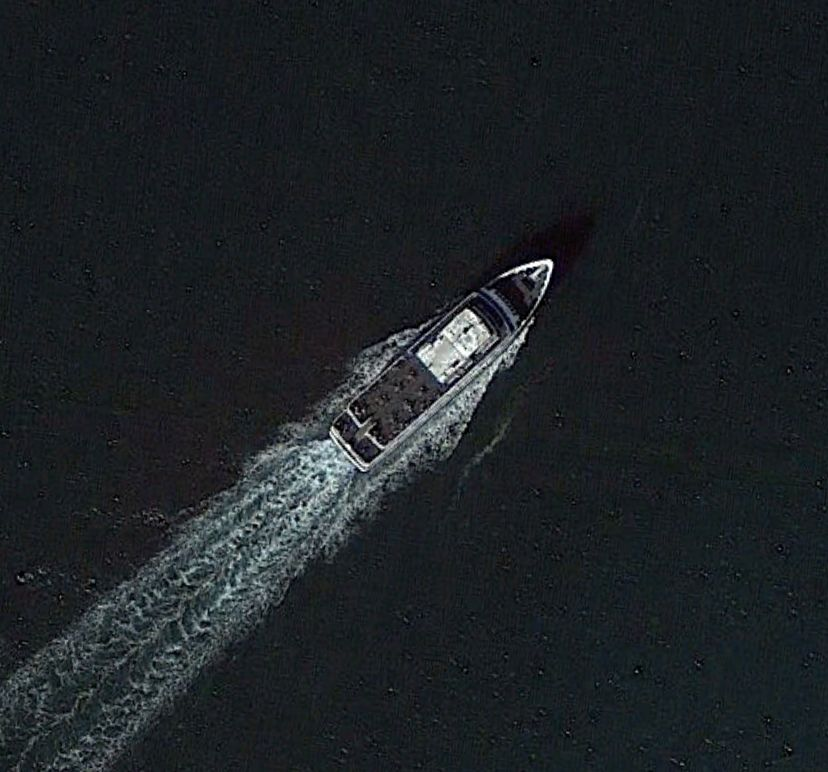boat: (326, 256, 558, 471)
